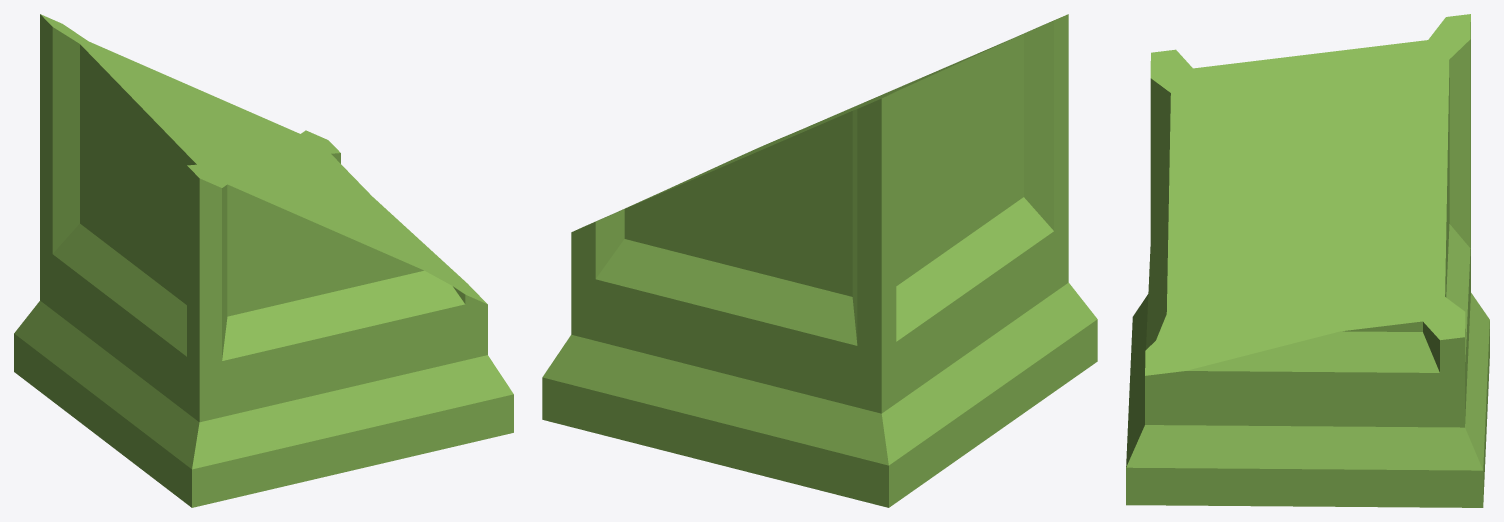
File: BrokenBlock2.obj
3 renders of one model, left to right at view 1: azimuth 30°, elevation 25°; view 2: azimuth 150°, elevation 25°; view 3: azimuth 270°, elevation 25°, orthographic. The views are drawn at different scales.
Visible parts, largest first — view 1: BrokenBlock2; view 2: BrokenBlock2; view 3: BrokenBlock2.
Part boxes in pixels (bbox=[...]): BrokenBlock2: bbox=[14, 14, 513, 507]; BrokenBlock2: bbox=[542, 14, 1097, 507]; BrokenBlock2: bbox=[1126, 14, 1489, 507].
Bounding box in the file's own units: 4.51 × 4.8 × 4.51.
